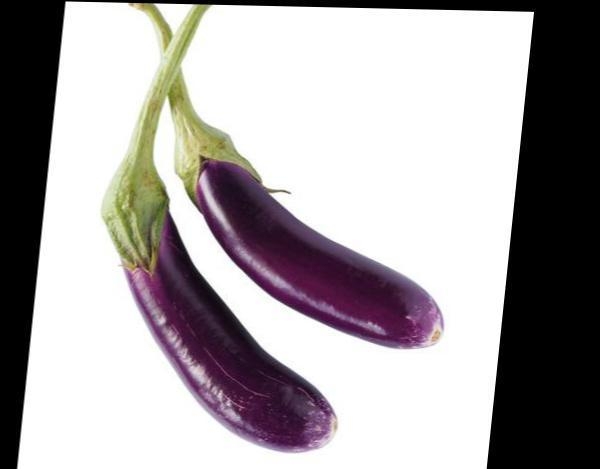eggplant: (78, 58, 449, 446)
